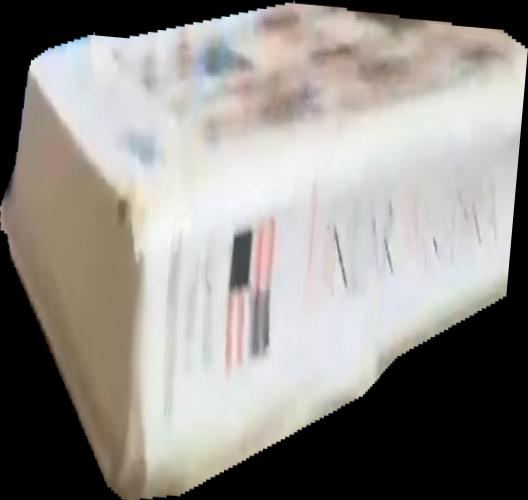flat: (1, 1, 528, 500)
